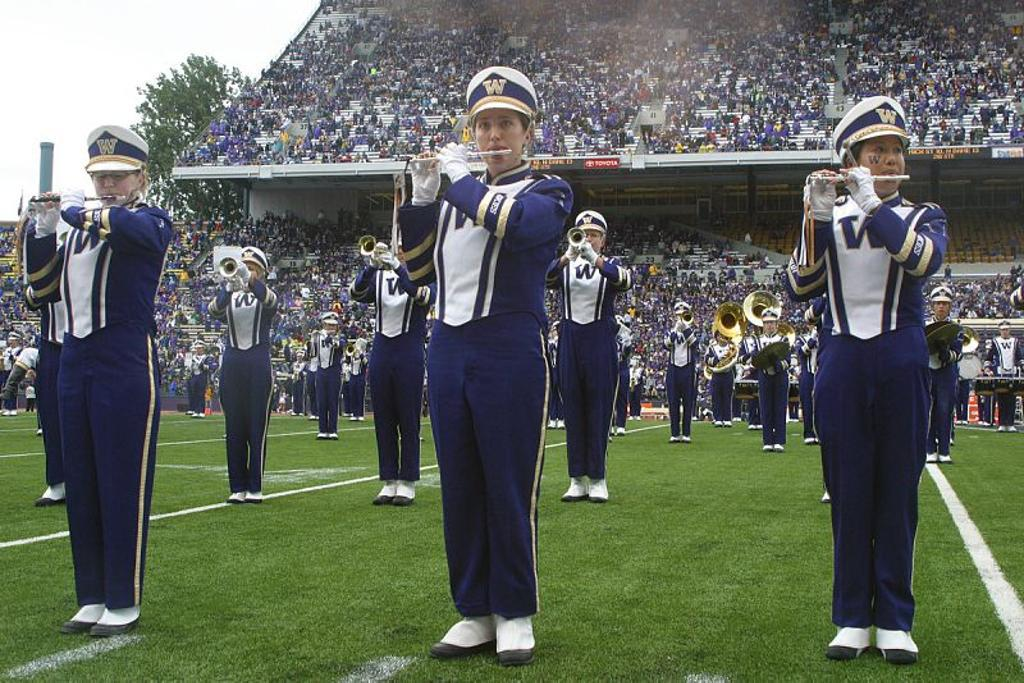face: (475, 113, 527, 166), (861, 134, 907, 192), (93, 171, 137, 208), (579, 230, 602, 254), (241, 263, 258, 285), (399, 248, 414, 266), (936, 301, 950, 316), (765, 321, 776, 334), (717, 334, 726, 344), (677, 314, 687, 323), (809, 322, 818, 332), (327, 323, 337, 332), (10, 339, 17, 347), (196, 347, 202, 354), (297, 356, 302, 361), (947, 266, 950, 269)
